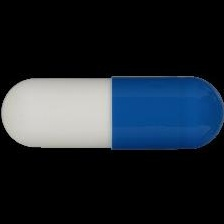53808-1001: (0, 0, 224, 224)
